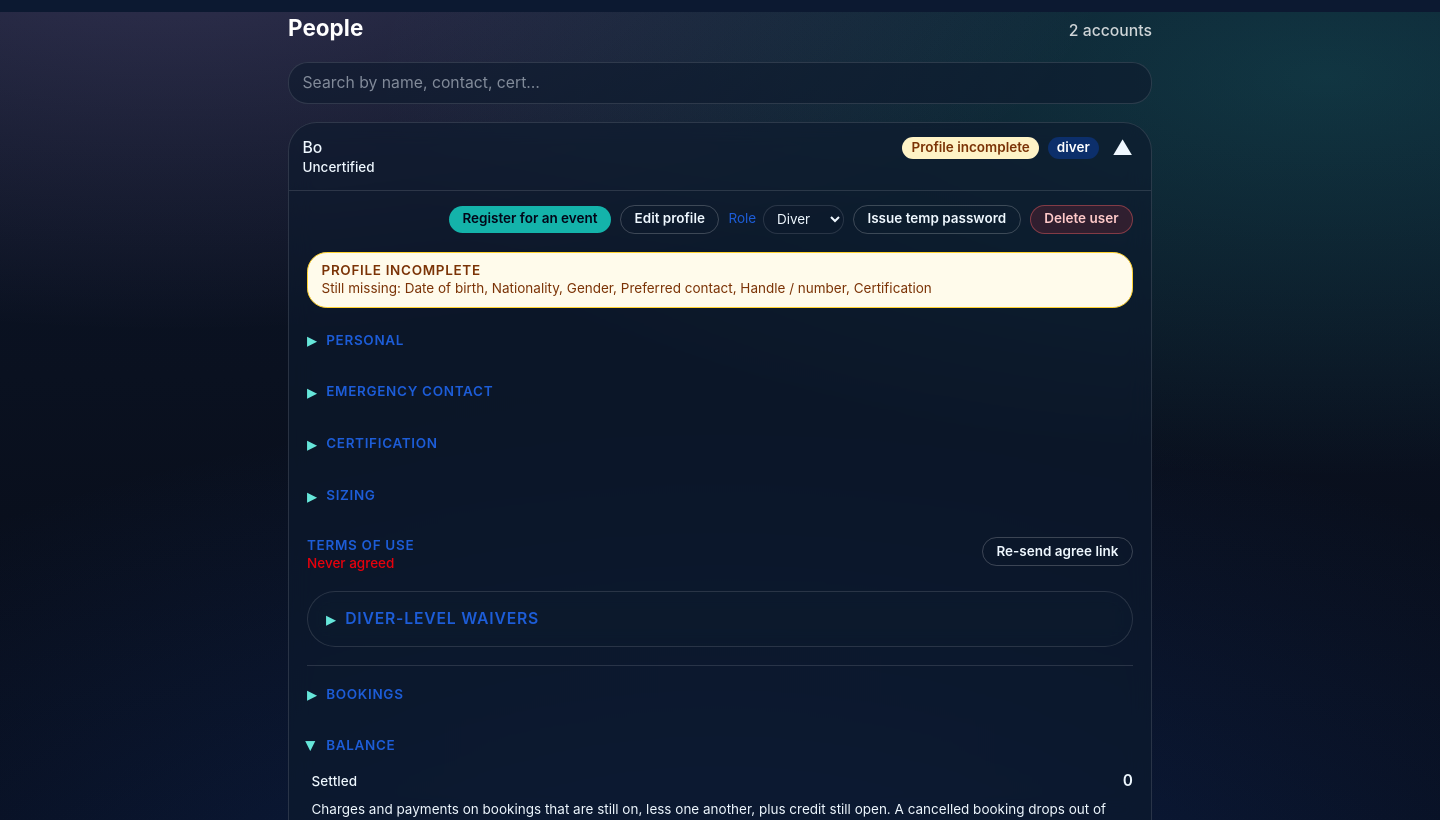
it: AdminUsersPage role promotion › issues a temp password and reveals it once the admin confirms
Click the button "Issue temp password" at x=937, y=220, box [853,205,1021,234]
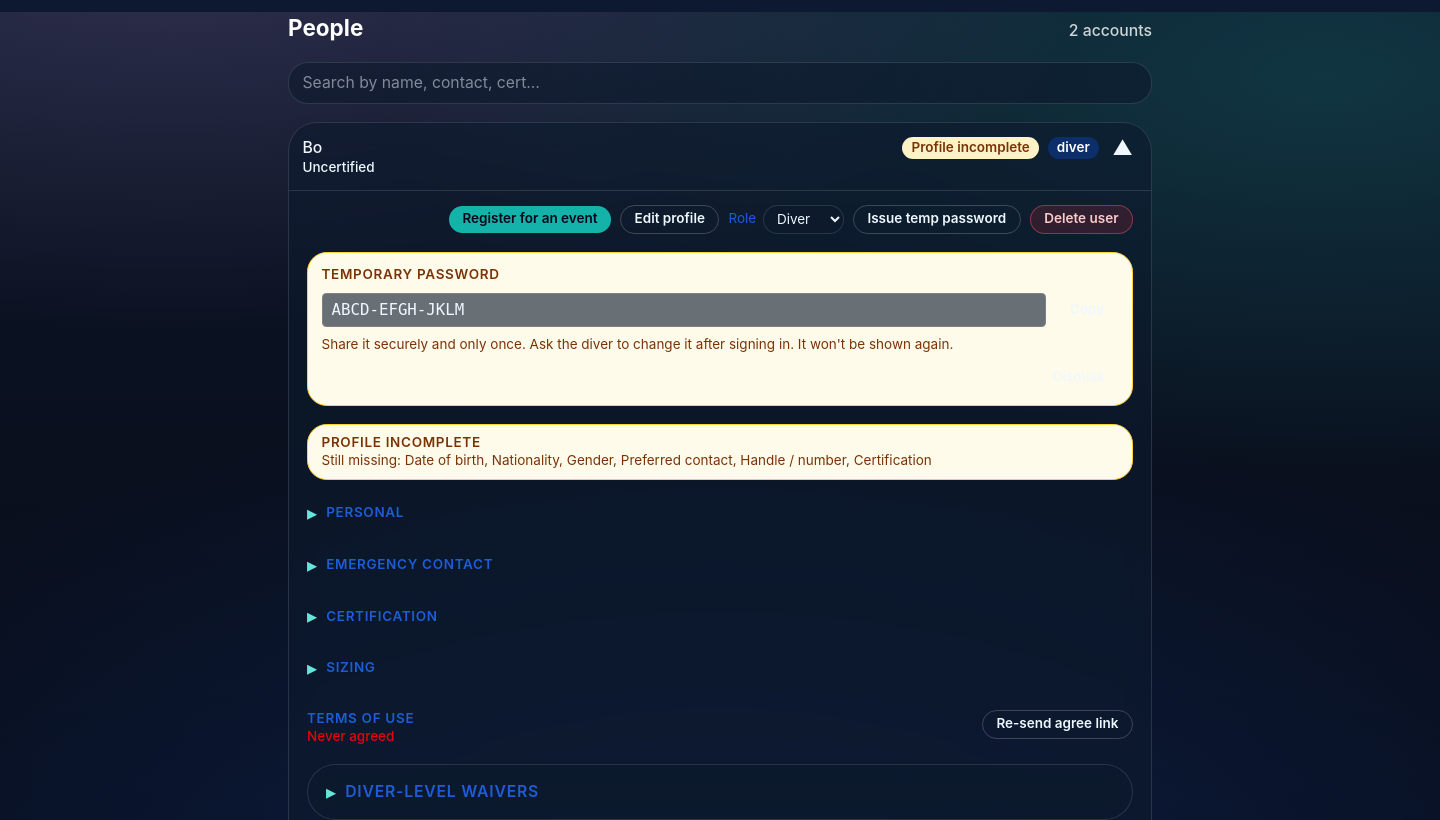
Check: the text "ABCD-EFGH-JKLM" is shown, box [322,294,1046,327]
